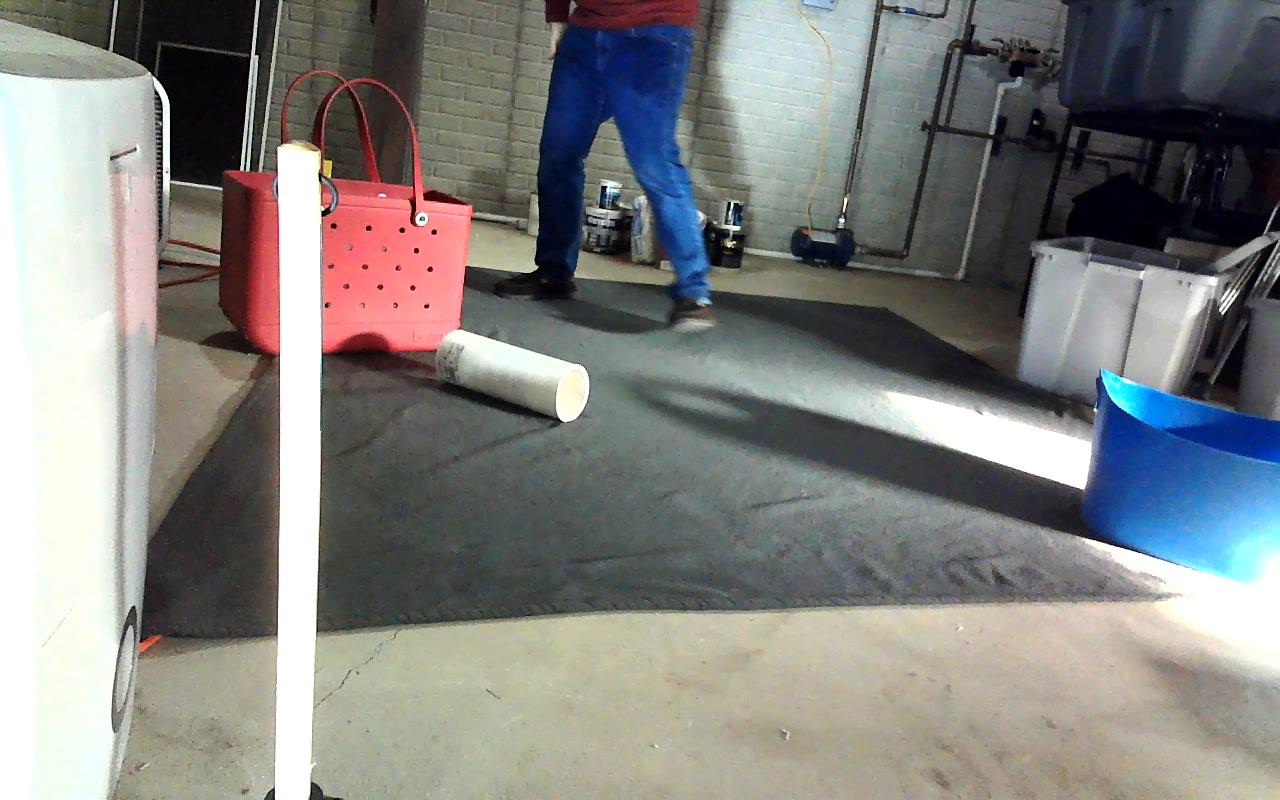coral: (436, 330, 588, 422)
